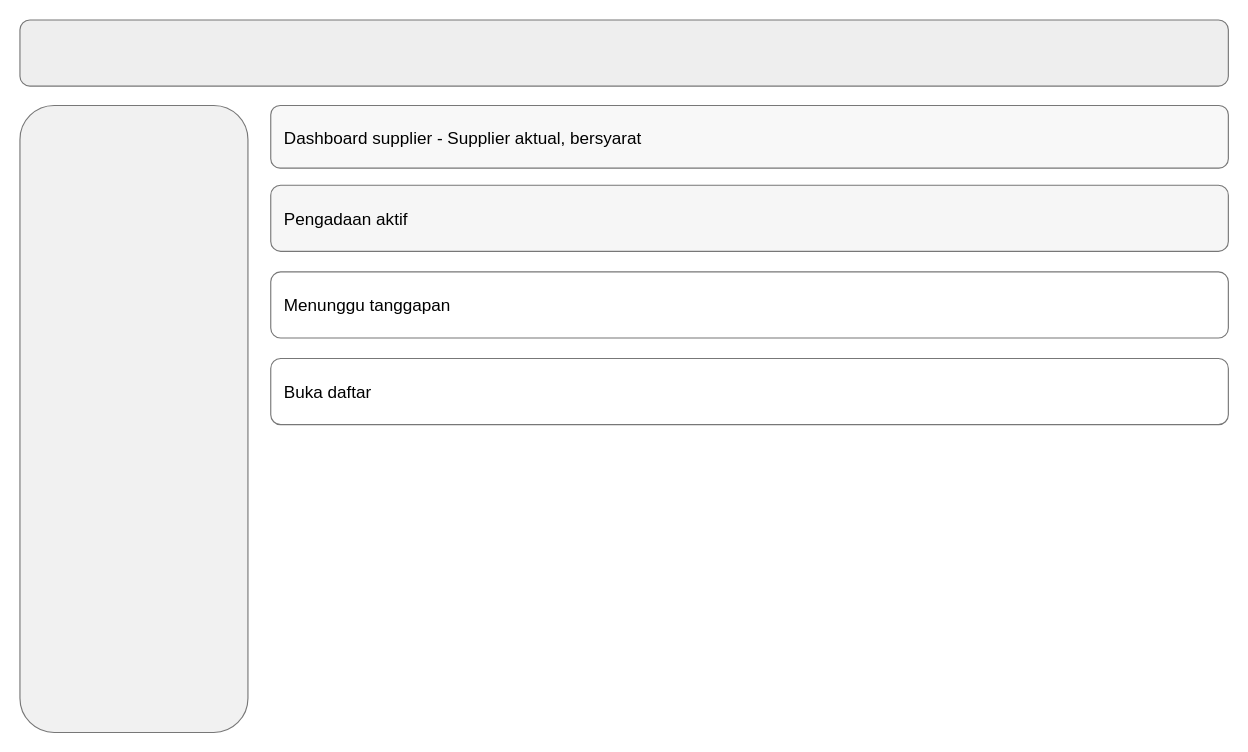
Some shapes in this 1248 by 752 pixel diagram are drawn without their labels. The shapes that lost their labels are listed below. From the top down, each one's centre as x and y in pixels, then its label:
At point 623,52: "MOTIFNESIA | Dashboard supplier".
At point 133,418: "Menu per hak akses".
